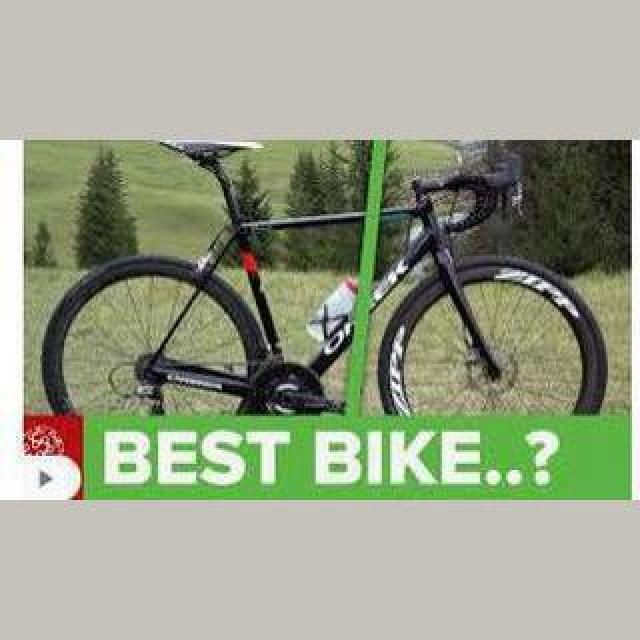Person: (38, 140, 608, 414)
